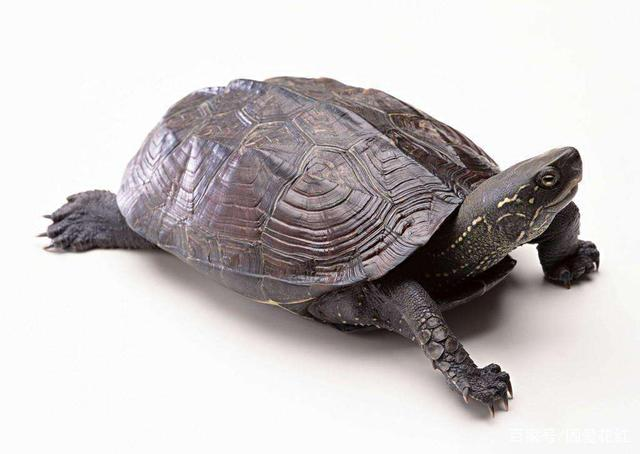tortoise: (35, 74, 602, 421)
